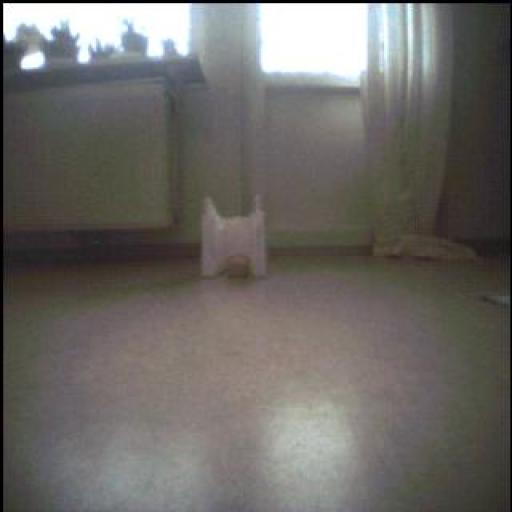Basket: (221, 254, 255, 283)
